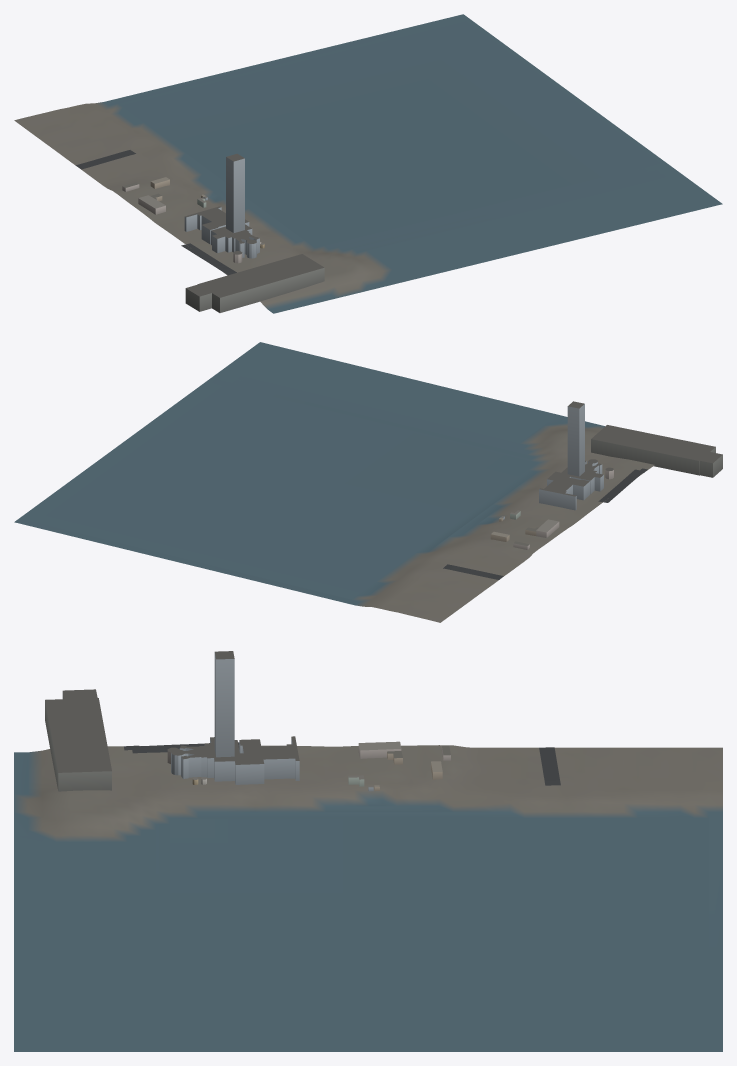
3 renders of one model, top to bottom at view 1: azimuth 30°, elevation 25°; view 2: azimuth 150°, elevation 25°; view 3: azimuth 270°, elevation 25°, orthographic. The views are drawn at different scales.
Parts seen in each view (by area): view 1: ground, buildings, roads; view 2: ground, buildings, roads; view 3: ground, buildings, roads.
Part boxes in pixels (x1,y1,x2,y2): ground: (14, 14, 722, 313); buildings: (122, 153, 324, 312); roads: (75, 150, 236, 275); ground: (14, 342, 654, 622); buildings: (490, 401, 722, 549); roads: (443, 468, 647, 579); ground: (14, 745, 722, 1051); buildings: (45, 651, 450, 791); roads: (124, 742, 560, 785).
Size of the model in its own units: 564 by 95.86 by 500.
